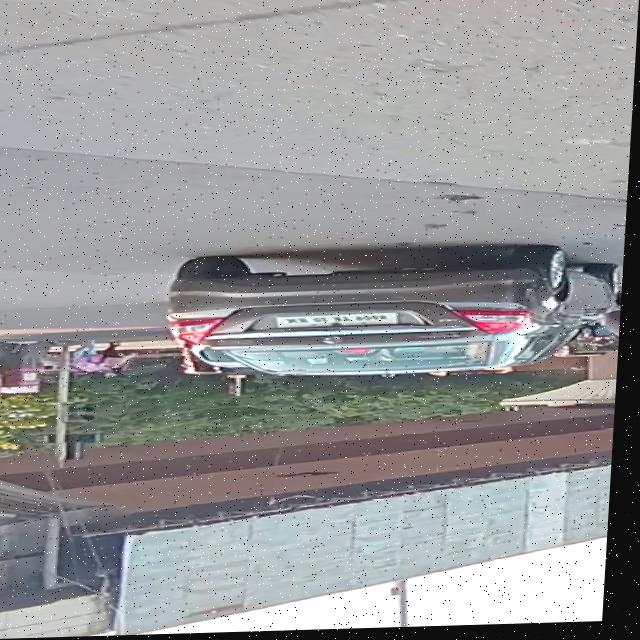plate: (279, 315, 407, 330)
